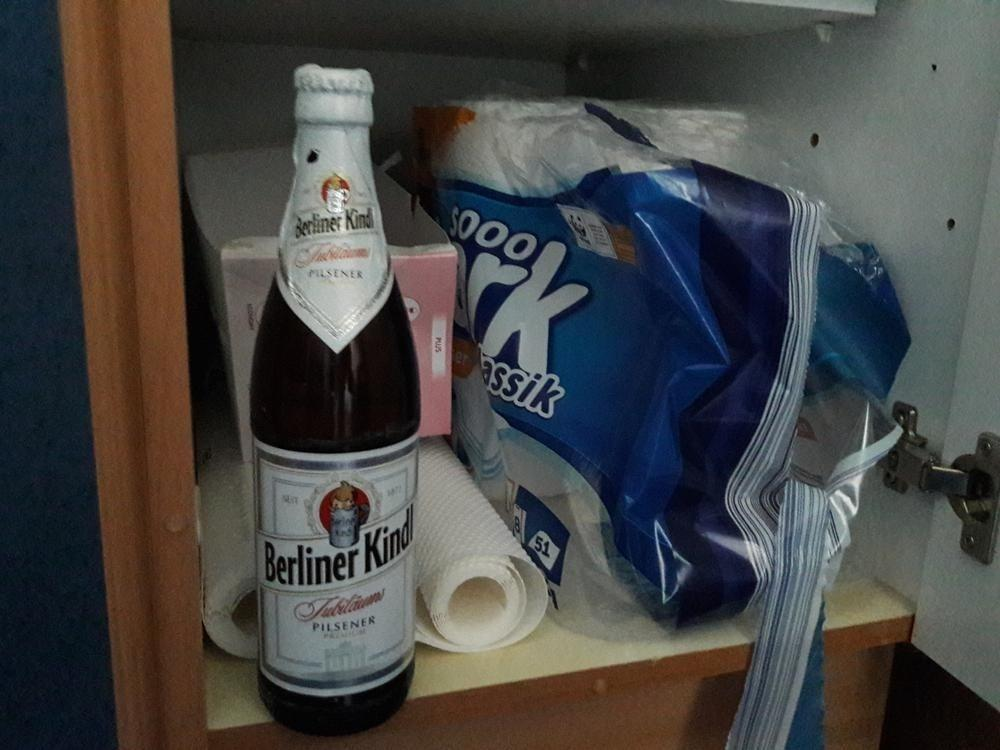bottle-glass: (248, 64, 422, 738)
